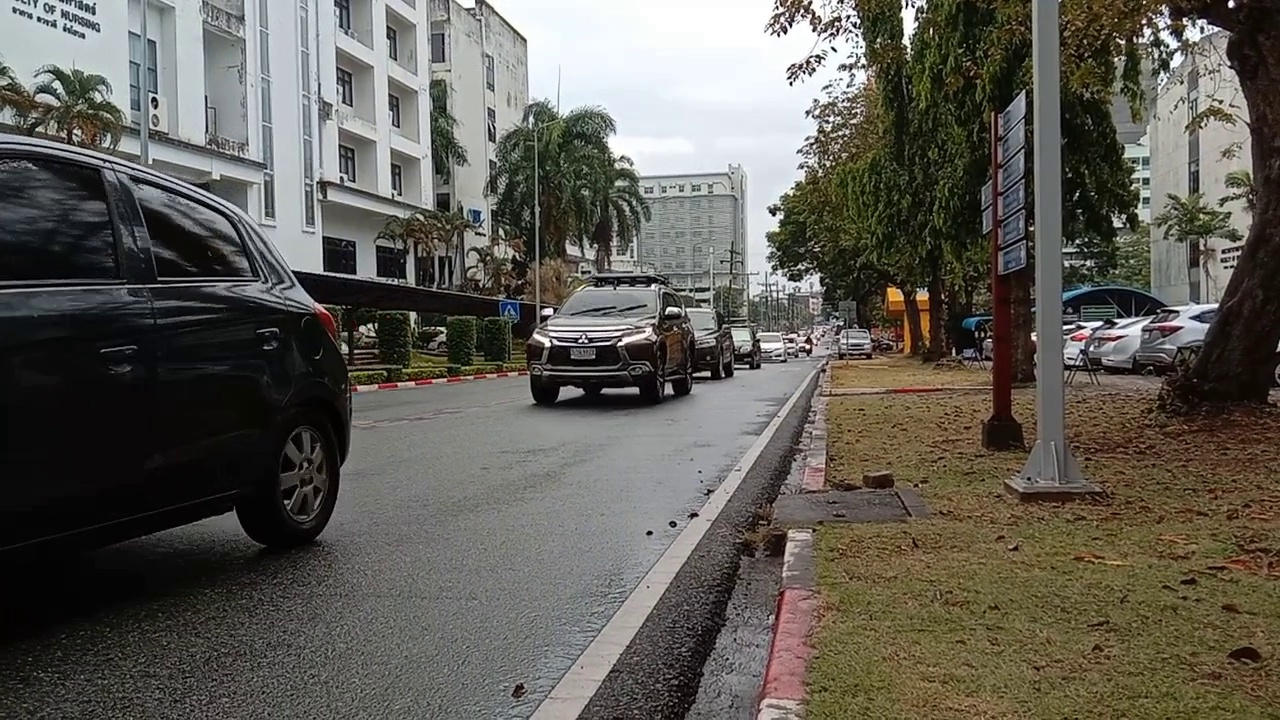License Plate: (566, 343, 596, 359)
